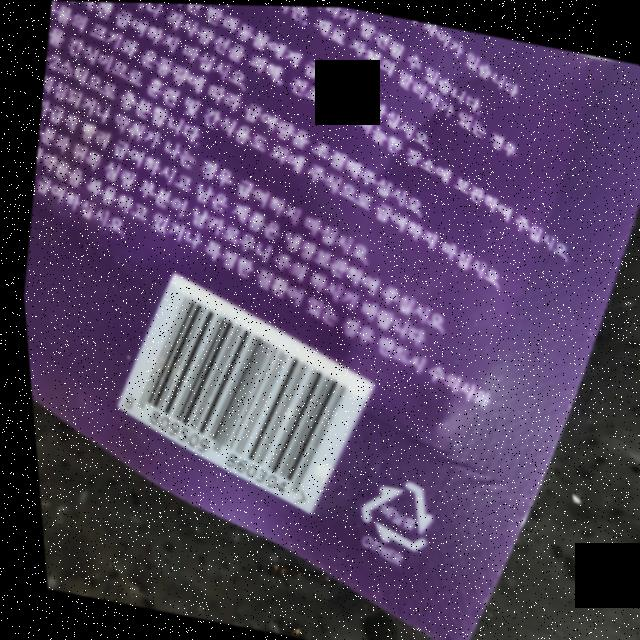Vinyl: (337, 460, 434, 555)
